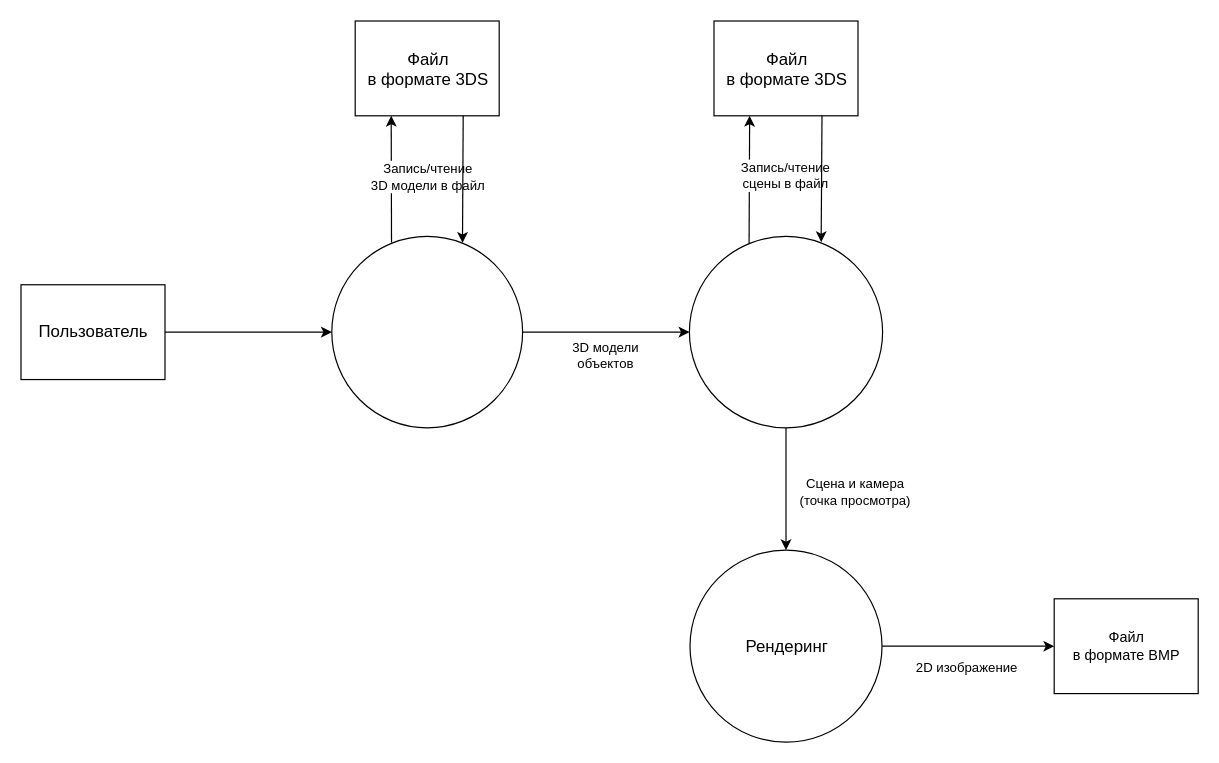
Image size: 1219x763. Some labels were removed from this diagram. Each missing label, with the box of its shape:
Создание 3D моделей объектов: (331, 235, 523, 428)
Создание сцены ( расположение 3D объектов, источники света, камеры): (688, 235, 883, 428)
